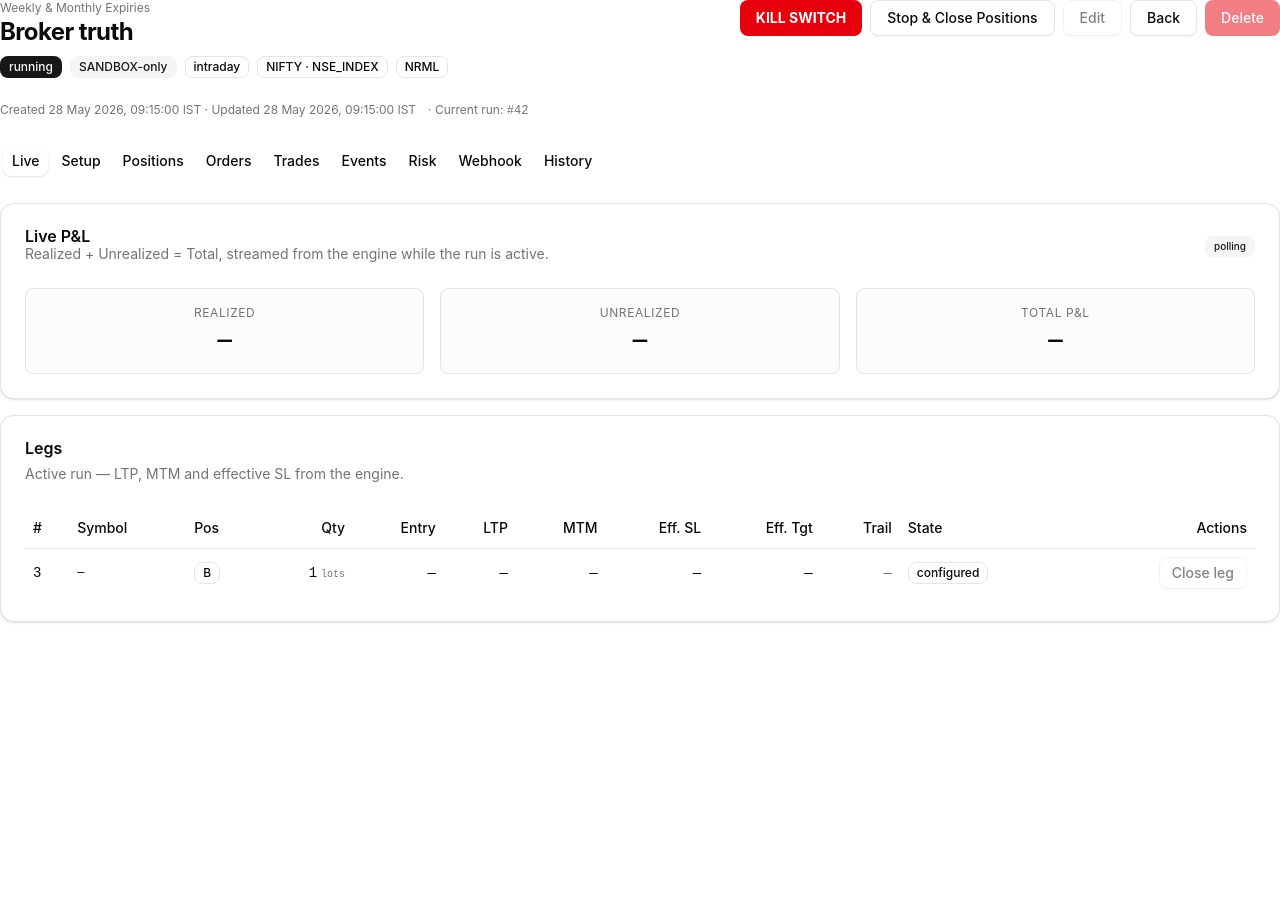
Scenario: strategy exit action toasts describe proven state only › does not promise a flat run before broker fills confirm it
Click the button "Stop & Close Positions": click(962, 18) [870, 0, 1055, 36]
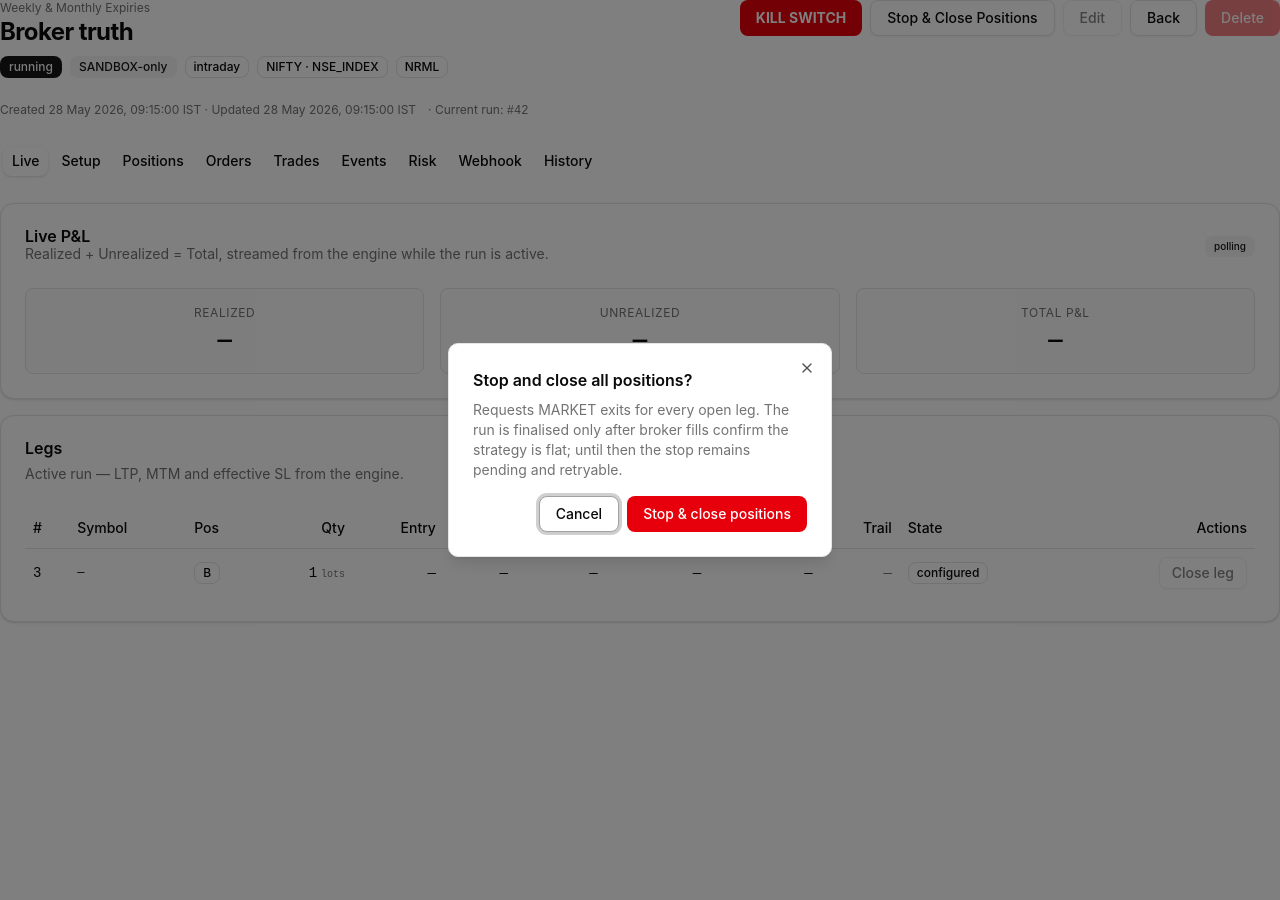
expect the text "finalised only after broker fills confirm the strategy is flat" is shown: met, box [473, 401, 789, 478]
Click the button "Cancel": click(579, 514) [539, 496, 619, 532]
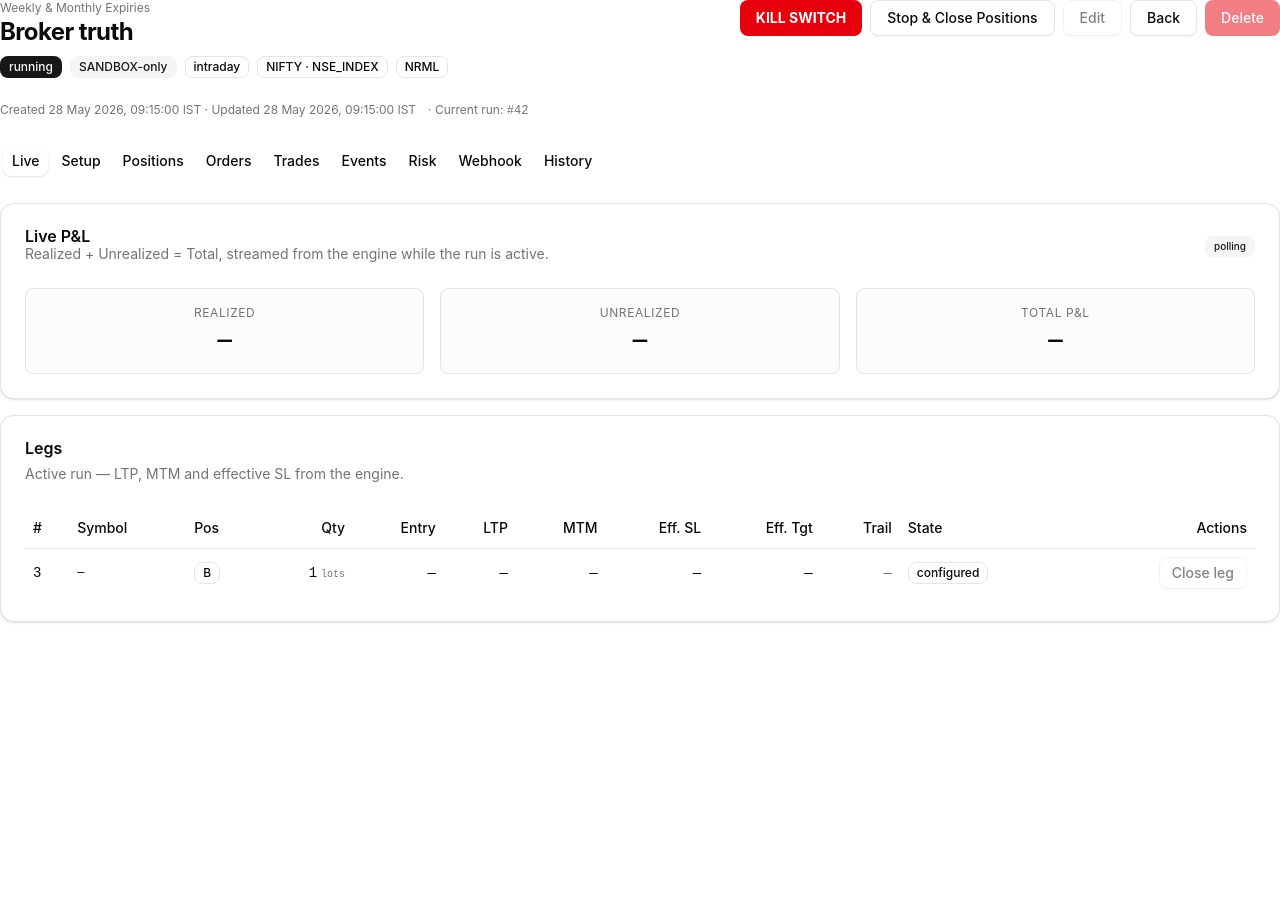
Click the button "KILL SWITCH": click(801, 18) [740, 0, 862, 36]
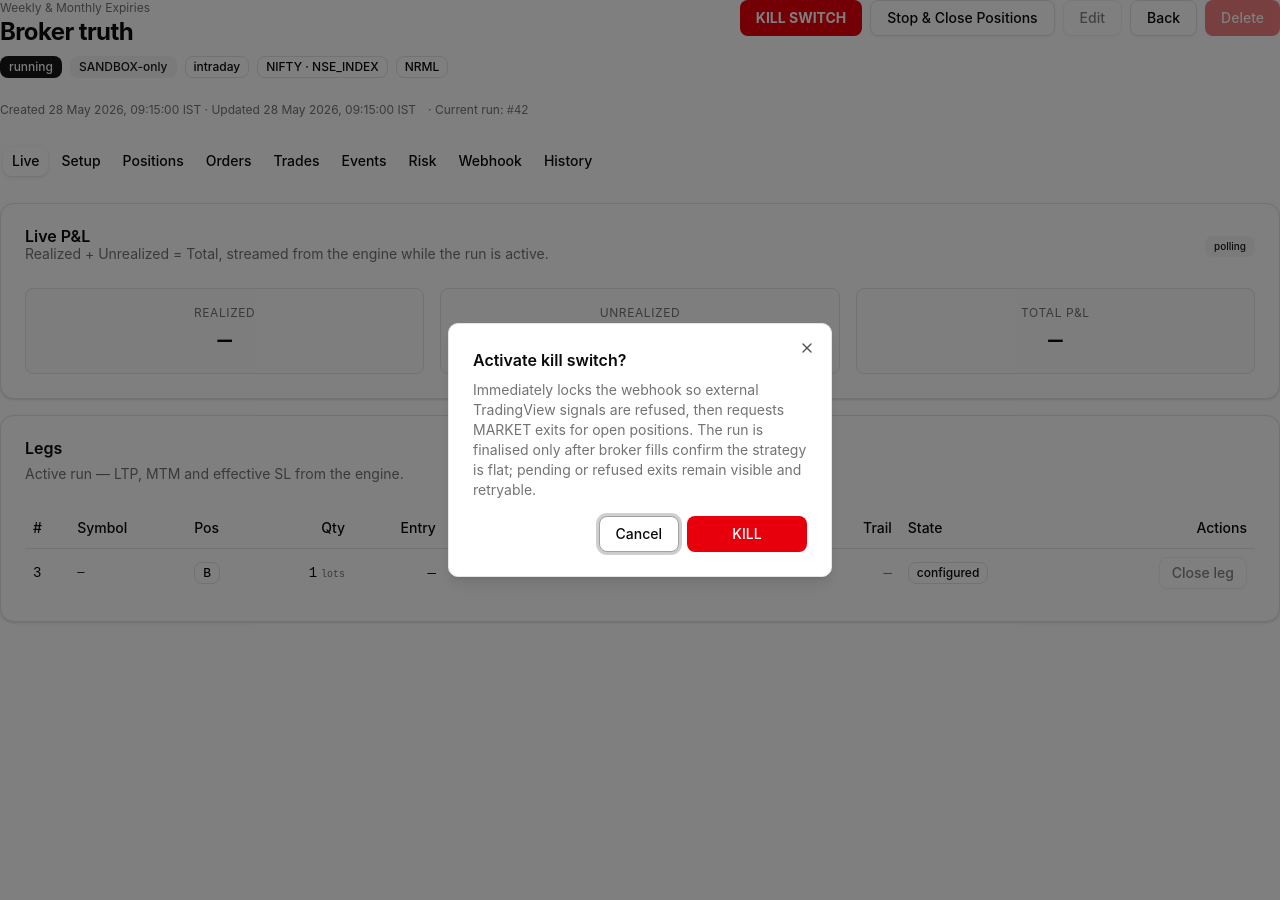
expect the text "finalised only after broker fills confirm the strategy is flat" is shown: met, box [473, 381, 806, 498]
